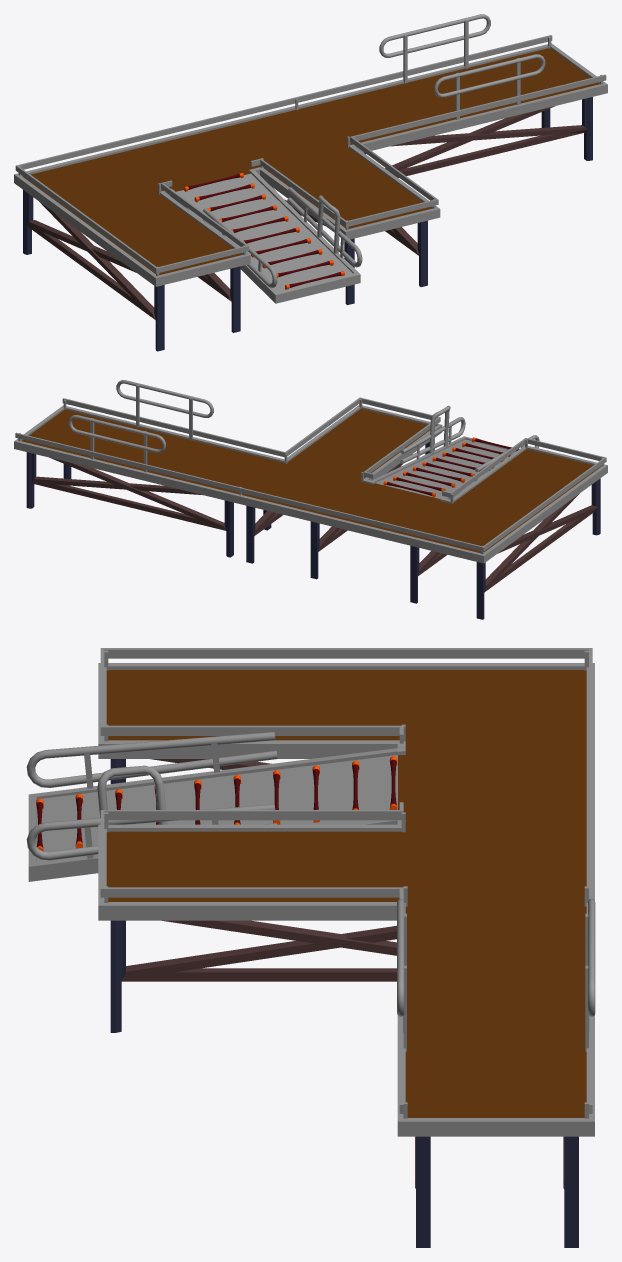
Rendered from Racing Port.FBX.
The picture shows the model from 3 angles, top to bottom: view 1: azimuth 30°, elevation 25°; view 2: azimuth 150°, elevation 25°; view 3: azimuth 270°, elevation 25°; orthographic projection. The views are drawn at different scales.
Parts seen in each view (by area): view 1: Port; view 2: Port; view 3: Port.
Boxes of the visible parts, x1,y1,x2,y2 form: Port: (14, 14, 607, 351); Port: (14, 380, 607, 619); Port: (26, 648, 595, 1247).
Size of the model in its own units: 266 by 58.55 by 139.
